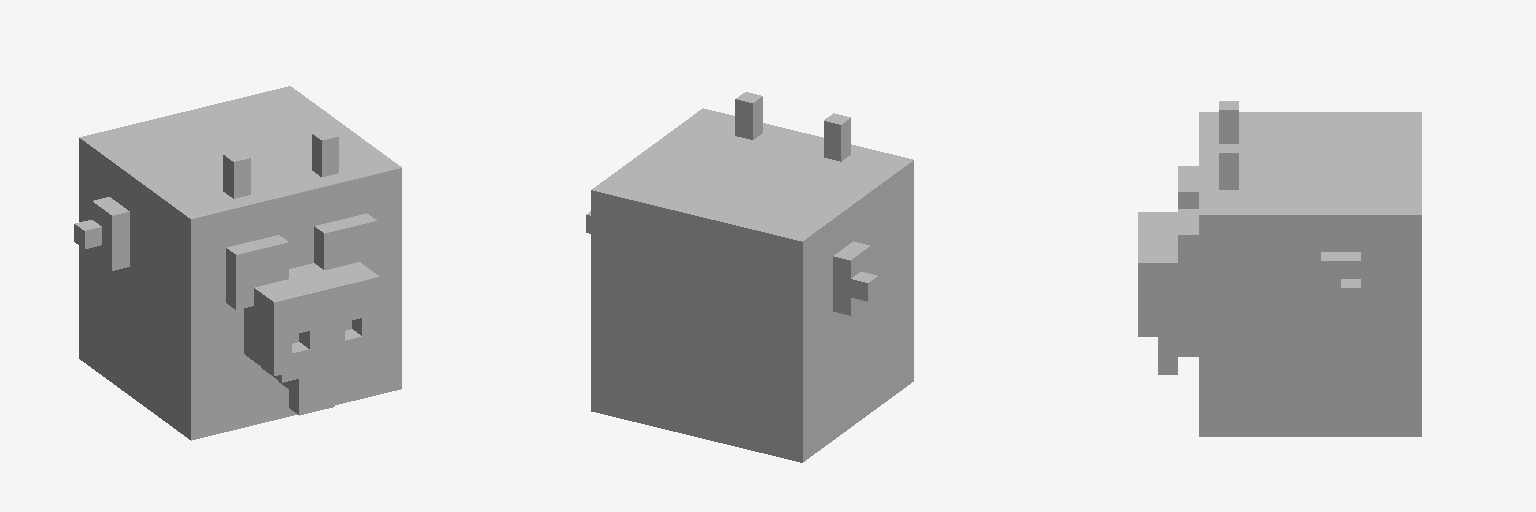
Rendered from zebra.obj.
The picture shows the model from 3 angles: view 1: azimuth 30°, elevation 25°; view 2: azimuth 150°, elevation 25°; view 3: azimuth 270°, elevation 25°; orthographic projection.
Visible parts, largest first — view 1: zebra; view 2: zebra; view 3: zebra.
Boxes of the visible parts, <box> form: zebra: <box>74,86,401,440</box>; zebra: <box>586,92,913,462</box>; zebra: <box>1138,101,1421,436</box>.
Bounding box in the file's own units: 16 × 14 × 14.